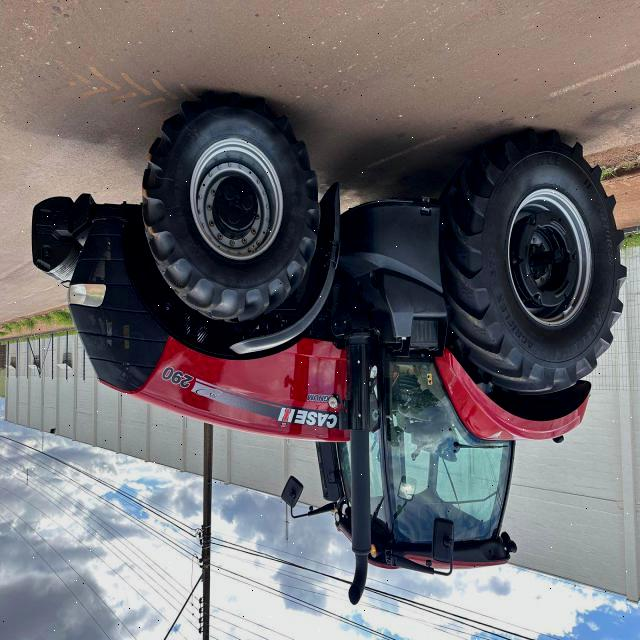Tratores - v5 YOLO V8L 2024-11-13: (32, 89, 625, 606)
